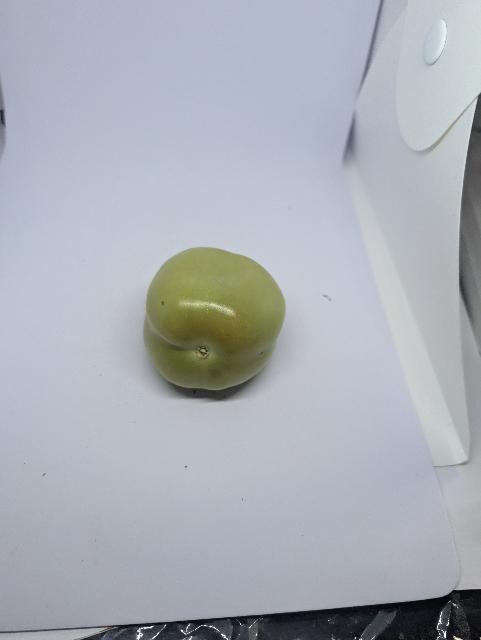green: (142, 245, 289, 393)
